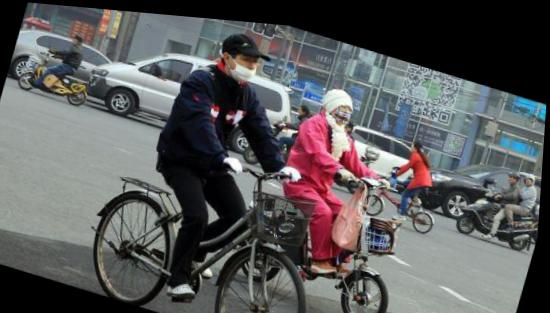OK: (329, 94, 355, 123)
WRONG: (226, 42, 263, 80)
